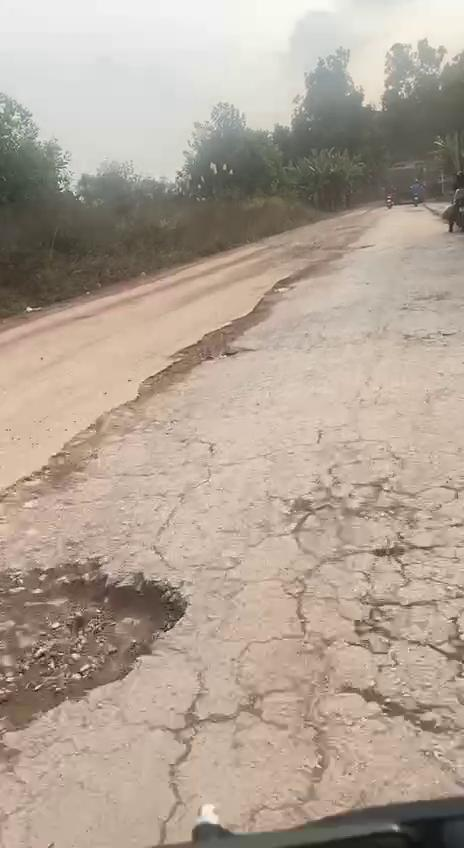pothole: (0, 548, 206, 742)
